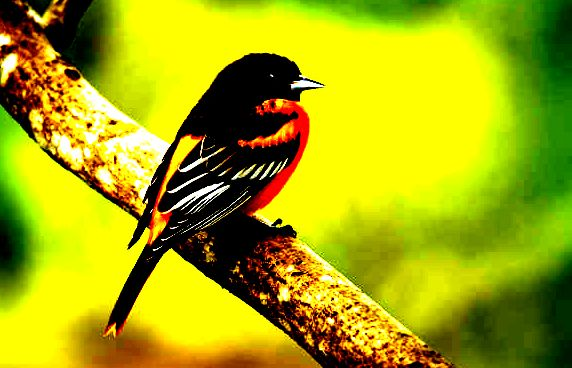Bird: (101, 49, 326, 342)
